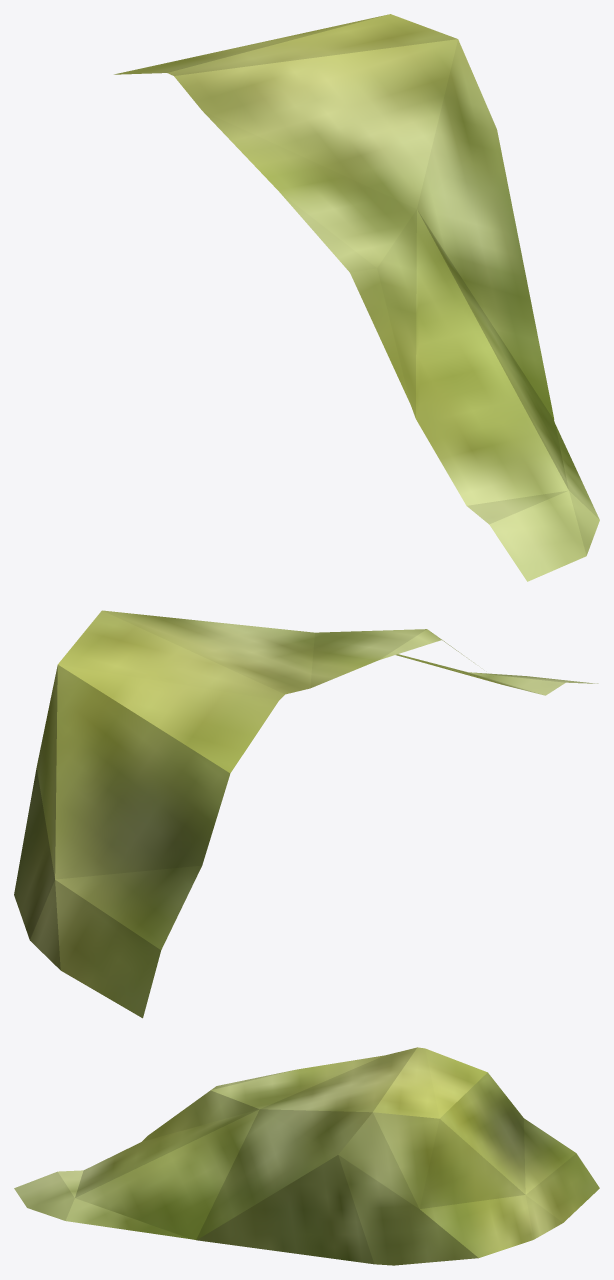
3 renders of one model, top to bottom at view 1: azimuth 30°, elevation 25°; view 2: azimuth 150°, elevation 25°; view 3: azimuth 270°, elevation 25°, orthographic. The views are drawn at different scales.
Bounding box in the file's own units: 0.1537 × 0.1339 × 0.4927.
Materials: 1 (1 with a texture image).
